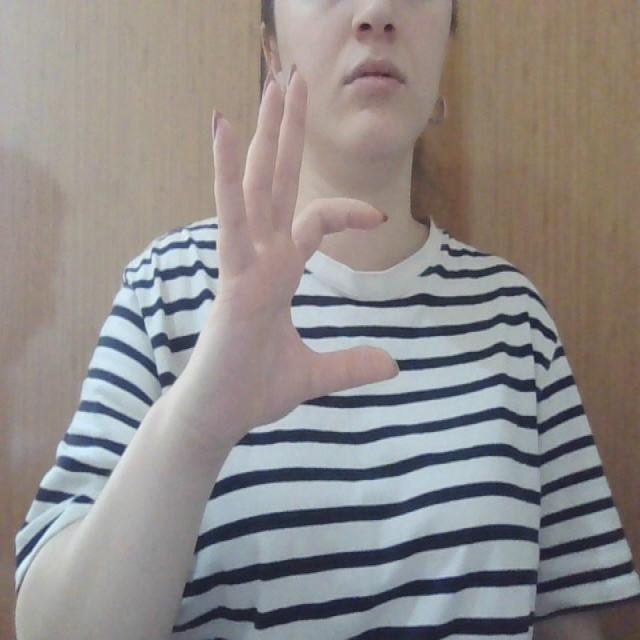Tuvalet: (154, 59, 402, 438)
